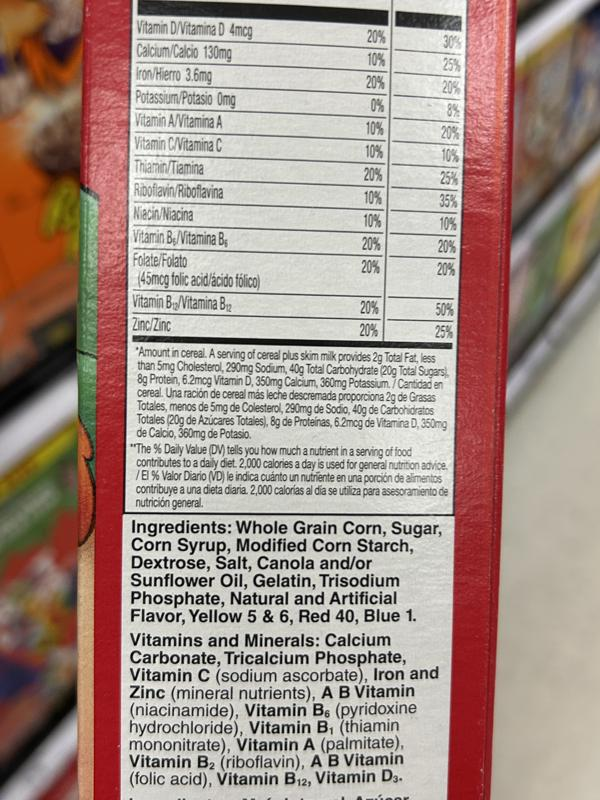ingredients: (127, 517, 445, 626)
